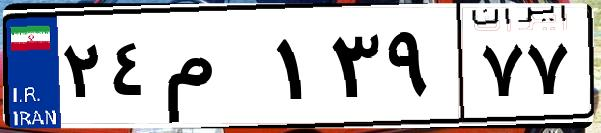1: (270, 28, 330, 110)
2: (57, 26, 110, 100)
3: (330, 28, 385, 110)
4: (110, 28, 158, 98)
7: (475, 38, 525, 113), (525, 38, 570, 115)
9: (385, 28, 445, 110)
م: (158, 20, 270, 120)
